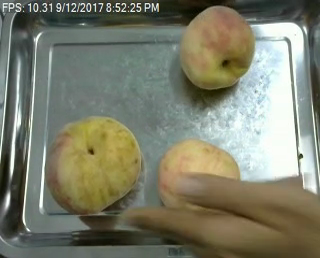Peach: (45, 115, 141, 215), (180, 5, 255, 90), (160, 140, 239, 193)
